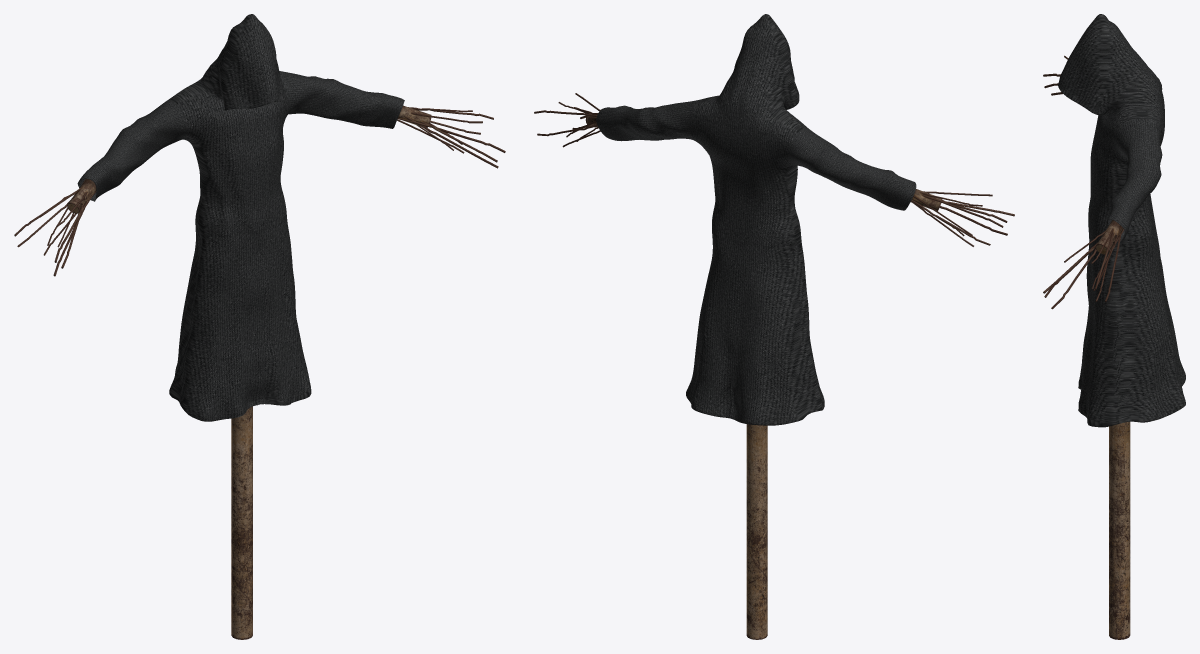
Rendered from scarecrow.gltf.
3 views of the same model, side by side, from view 1: azimuth 30°, elevation 25°; view 2: azimuth 150°, elevation 25°; view 3: azimuth 270°, elevation 25° (orthographic). The views are drawn at different scales.
Visible parts, largest first — view 1: Upper; view 2: Upper; view 3: Upper.
Part boxes in pixels (box(x1,y1,x2,y2)): Upper: box(14, 14, 505, 639); Upper: box(534, 14, 1014, 639); Upper: box(1043, 14, 1185, 639).
Bounding box in the file's own units: 1.53 × 1.92 × 0.3998.
1 material, 1 textured.
